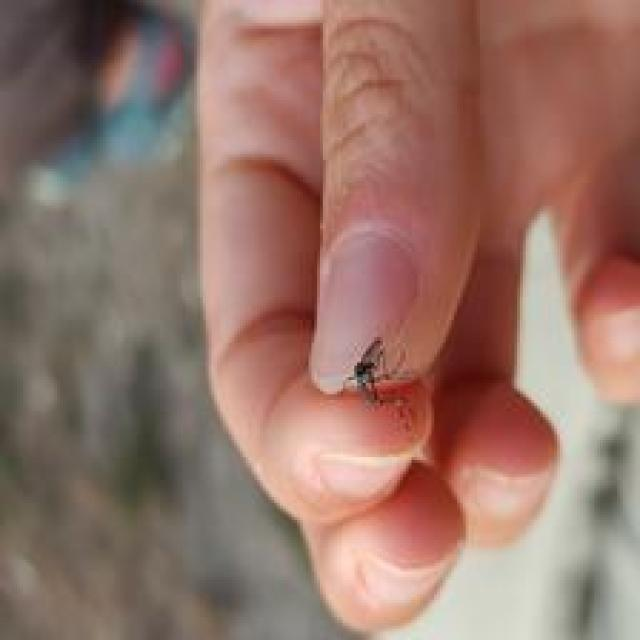Aedes albopictus: (338, 334, 413, 409)
